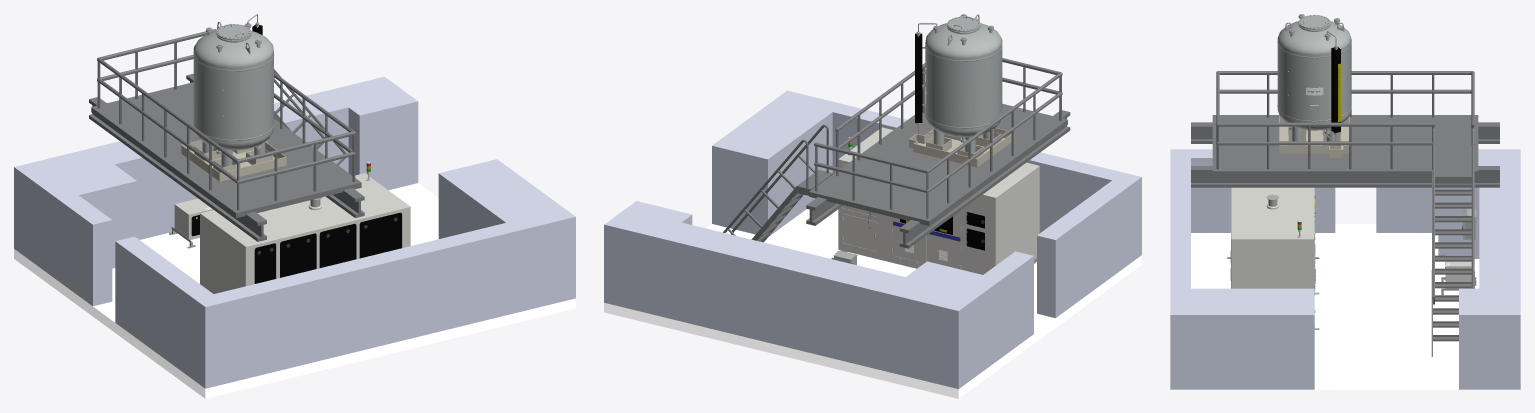
File: SuanGongYingJian.glb
The picture shows the model from 3 angles, left to right: view 1: azimuth 30°, elevation 25°; view 2: azimuth 150°, elevation 25°; view 3: azimuth 270°, elevation 25°; orthographic projection. The views are drawn at different scales.
Parts seen in each view (by area): view 1: FAB_1F_SuanGongYingJian01_YiLei_Wall, FAB_1F_SuanGongYingJian01_YiLei_Steel, FAB_1F_SuanGongYingJian01_YiLei_Ground, FAB_1F_SGYJ_YL_Supply_Tank_Paint03, FAB_1F_SGYJ_YL_CDM_Paint, FAB_1F_SGYJ_YL_CDM_Glass, FAB_1F_SGYJ_YL_Supply_Tank_Paint04, FAB_1F_SGYJ_YL_BengHe02_Paint1; view 2: FAB_1F_SuanGongYingJian01_YiLei_Wall, FAB_1F_SuanGongYingJian01_YiLei_Steel, FAB_1F_SGYJ_YL_CDM_Paint, FAB_1F_SuanGongYingJian01_YiLei_Ground, FAB_1F_SGYJ_YL_Supply_Tank_Paint03, FAB_1F_SGYJ_YL_Supply_Tank_Paint04, FAB_1F_SGYJ_YL_CDM_Glass, FAB_1F_SGYJ_YL_Supply_Tank_Glass1; view 3: FAB_1F_SuanGongYingJian01_YiLei_Wall, FAB_1F_SuanGongYingJian01_YiLei_Ground, FAB_1F_SuanGongYingJian01_YiLei_Steel, FAB_1F_SGYJ_YL_CDM_Paint, FAB_1F_SGYJ_YL_Supply_Tank_Paint03, FAB_1F_SGYJ_YL_Supply_Tank_Paint04, FAB_1F_SGYJ_YL_Supply_Tank_Glass1, FAB_1F_SGYJ_YL_BengHe02_Paint1.
Part boxes in pixels (<box>): FAB_1F_SuanGongYingJian01_YiLei_Wall: <box>14,76,575,388</box>; FAB_1F_SuanGongYingJian01_YiLei_Steel: <box>89,29,364,241</box>; FAB_1F_SuanGongYingJian01_YiLei_Ground: <box>14,183,575,398</box>; FAB_1F_SGYJ_YL_Supply_Tank_Paint03: <box>193,21,274,167</box>; FAB_1F_SGYJ_YL_CDM_Paint: <box>200,161,410,293</box>; FAB_1F_SGYJ_YL_CDM_Glass: <box>254,212,401,283</box>; FAB_1F_SGYJ_YL_Supply_Tank_Paint04: <box>181,140,286,181</box>; FAB_1F_SGYJ_YL_BengHe02_Paint1: <box>174,198,213,241</box>; FAB_1F_SuanGongYingJian01_YiLei_Wall: <box>604,90,1141,388</box>; FAB_1F_SuanGongYingJian01_YiLei_Steel: <box>723,58,1070,248</box>; FAB_1F_SGYJ_YL_CDM_Paint: <box>838,127,1039,274</box>; FAB_1F_SuanGongYingJian01_YiLei_Ground: <box>604,209,1141,398</box>; FAB_1F_SGYJ_YL_Supply_Tank_Paint03: <box>922,14,1002,153</box>; FAB_1F_SGYJ_YL_Supply_Tank_Paint04: <box>909,127,1014,167</box>; FAB_1F_SGYJ_YL_CDM_Glass: <box>900,212,984,250</box>; FAB_1F_SGYJ_YL_Supply_Tank_Glass1: <box>915,33,922,122</box>; FAB_1F_SuanGongYingJian01_YiLei_Wall: <box>1170,149,1520,389</box>; FAB_1F_SuanGongYingJian01_YiLei_Ground: <box>1170,224,1520,398</box>; FAB_1F_SuanGongYingJian01_YiLei_Steel: <box>1191,71,1499,356</box>; FAB_1F_SGYJ_YL_CDM_Paint: <box>1231,187,1314,288</box>; FAB_1F_SGYJ_YL_Supply_Tank_Paint03: <box>1277,14,1351,141</box>; FAB_1F_SGYJ_YL_Supply_Tank_Paint04: <box>1279,116,1349,157</box>; FAB_1F_SGYJ_YL_Supply_Tank_Glass1: <box>1331,47,1340,132</box>; FAB_1F_SGYJ_YL_BengHe02_Paint1: <box>1443,255,1471,288</box>.
Bounding box in the file's own units: 0.38 × 0.2807 × 0.34.
